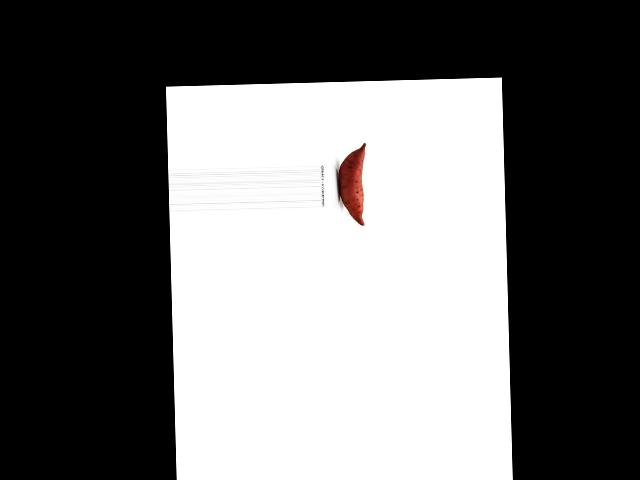sweet_potato: (337, 142, 372, 227)
